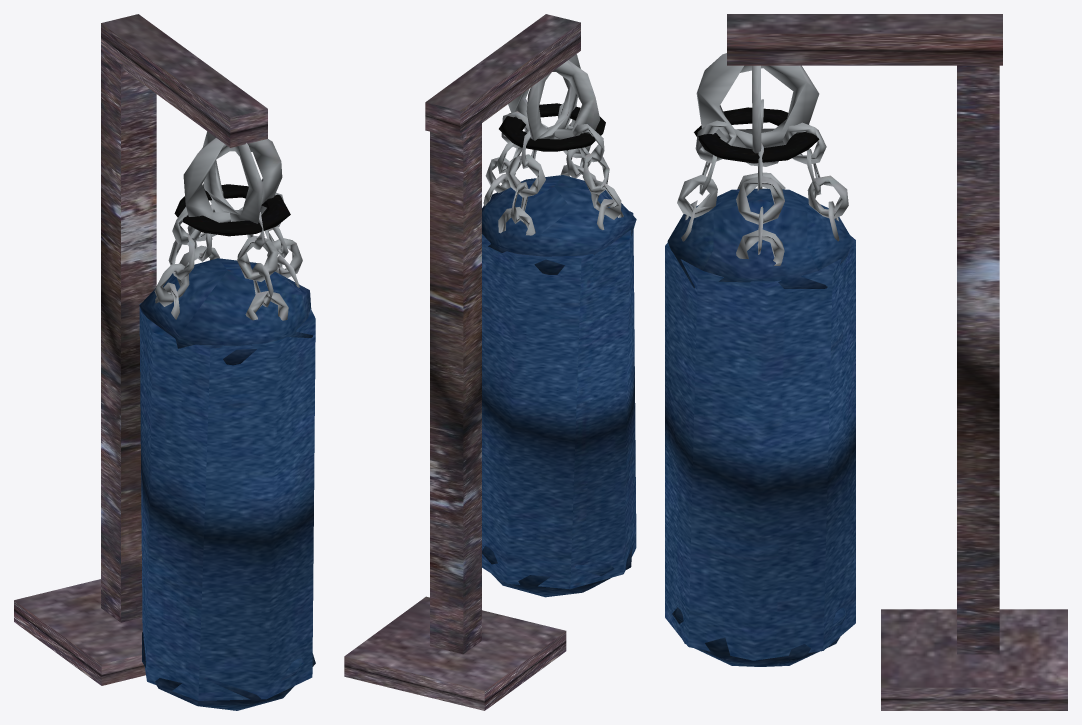
The model's file is bag.dae.
The picture shows the model from 3 angles, left to right: view 1: azimuth 30°, elevation 25°; view 2: azimuth 150°, elevation 25°; view 3: azimuth 270°, elevation 25°; orthographic projection. The views are drawn at different scales.
Visible parts, largest first — view 1: Cube_002; view 2: Cube_002; view 3: Cube_002.
Boxes of the visible parts, box(x1,y1,x2,y2) form: Cube_002: box(14, 14, 315, 710); Cube_002: box(344, 14, 636, 710); Cube_002: box(665, 14, 1067, 710).
Size of the model in its own units: 0.1486 by 0.3065 by 0.5439.
8 materials, 8 textured.
